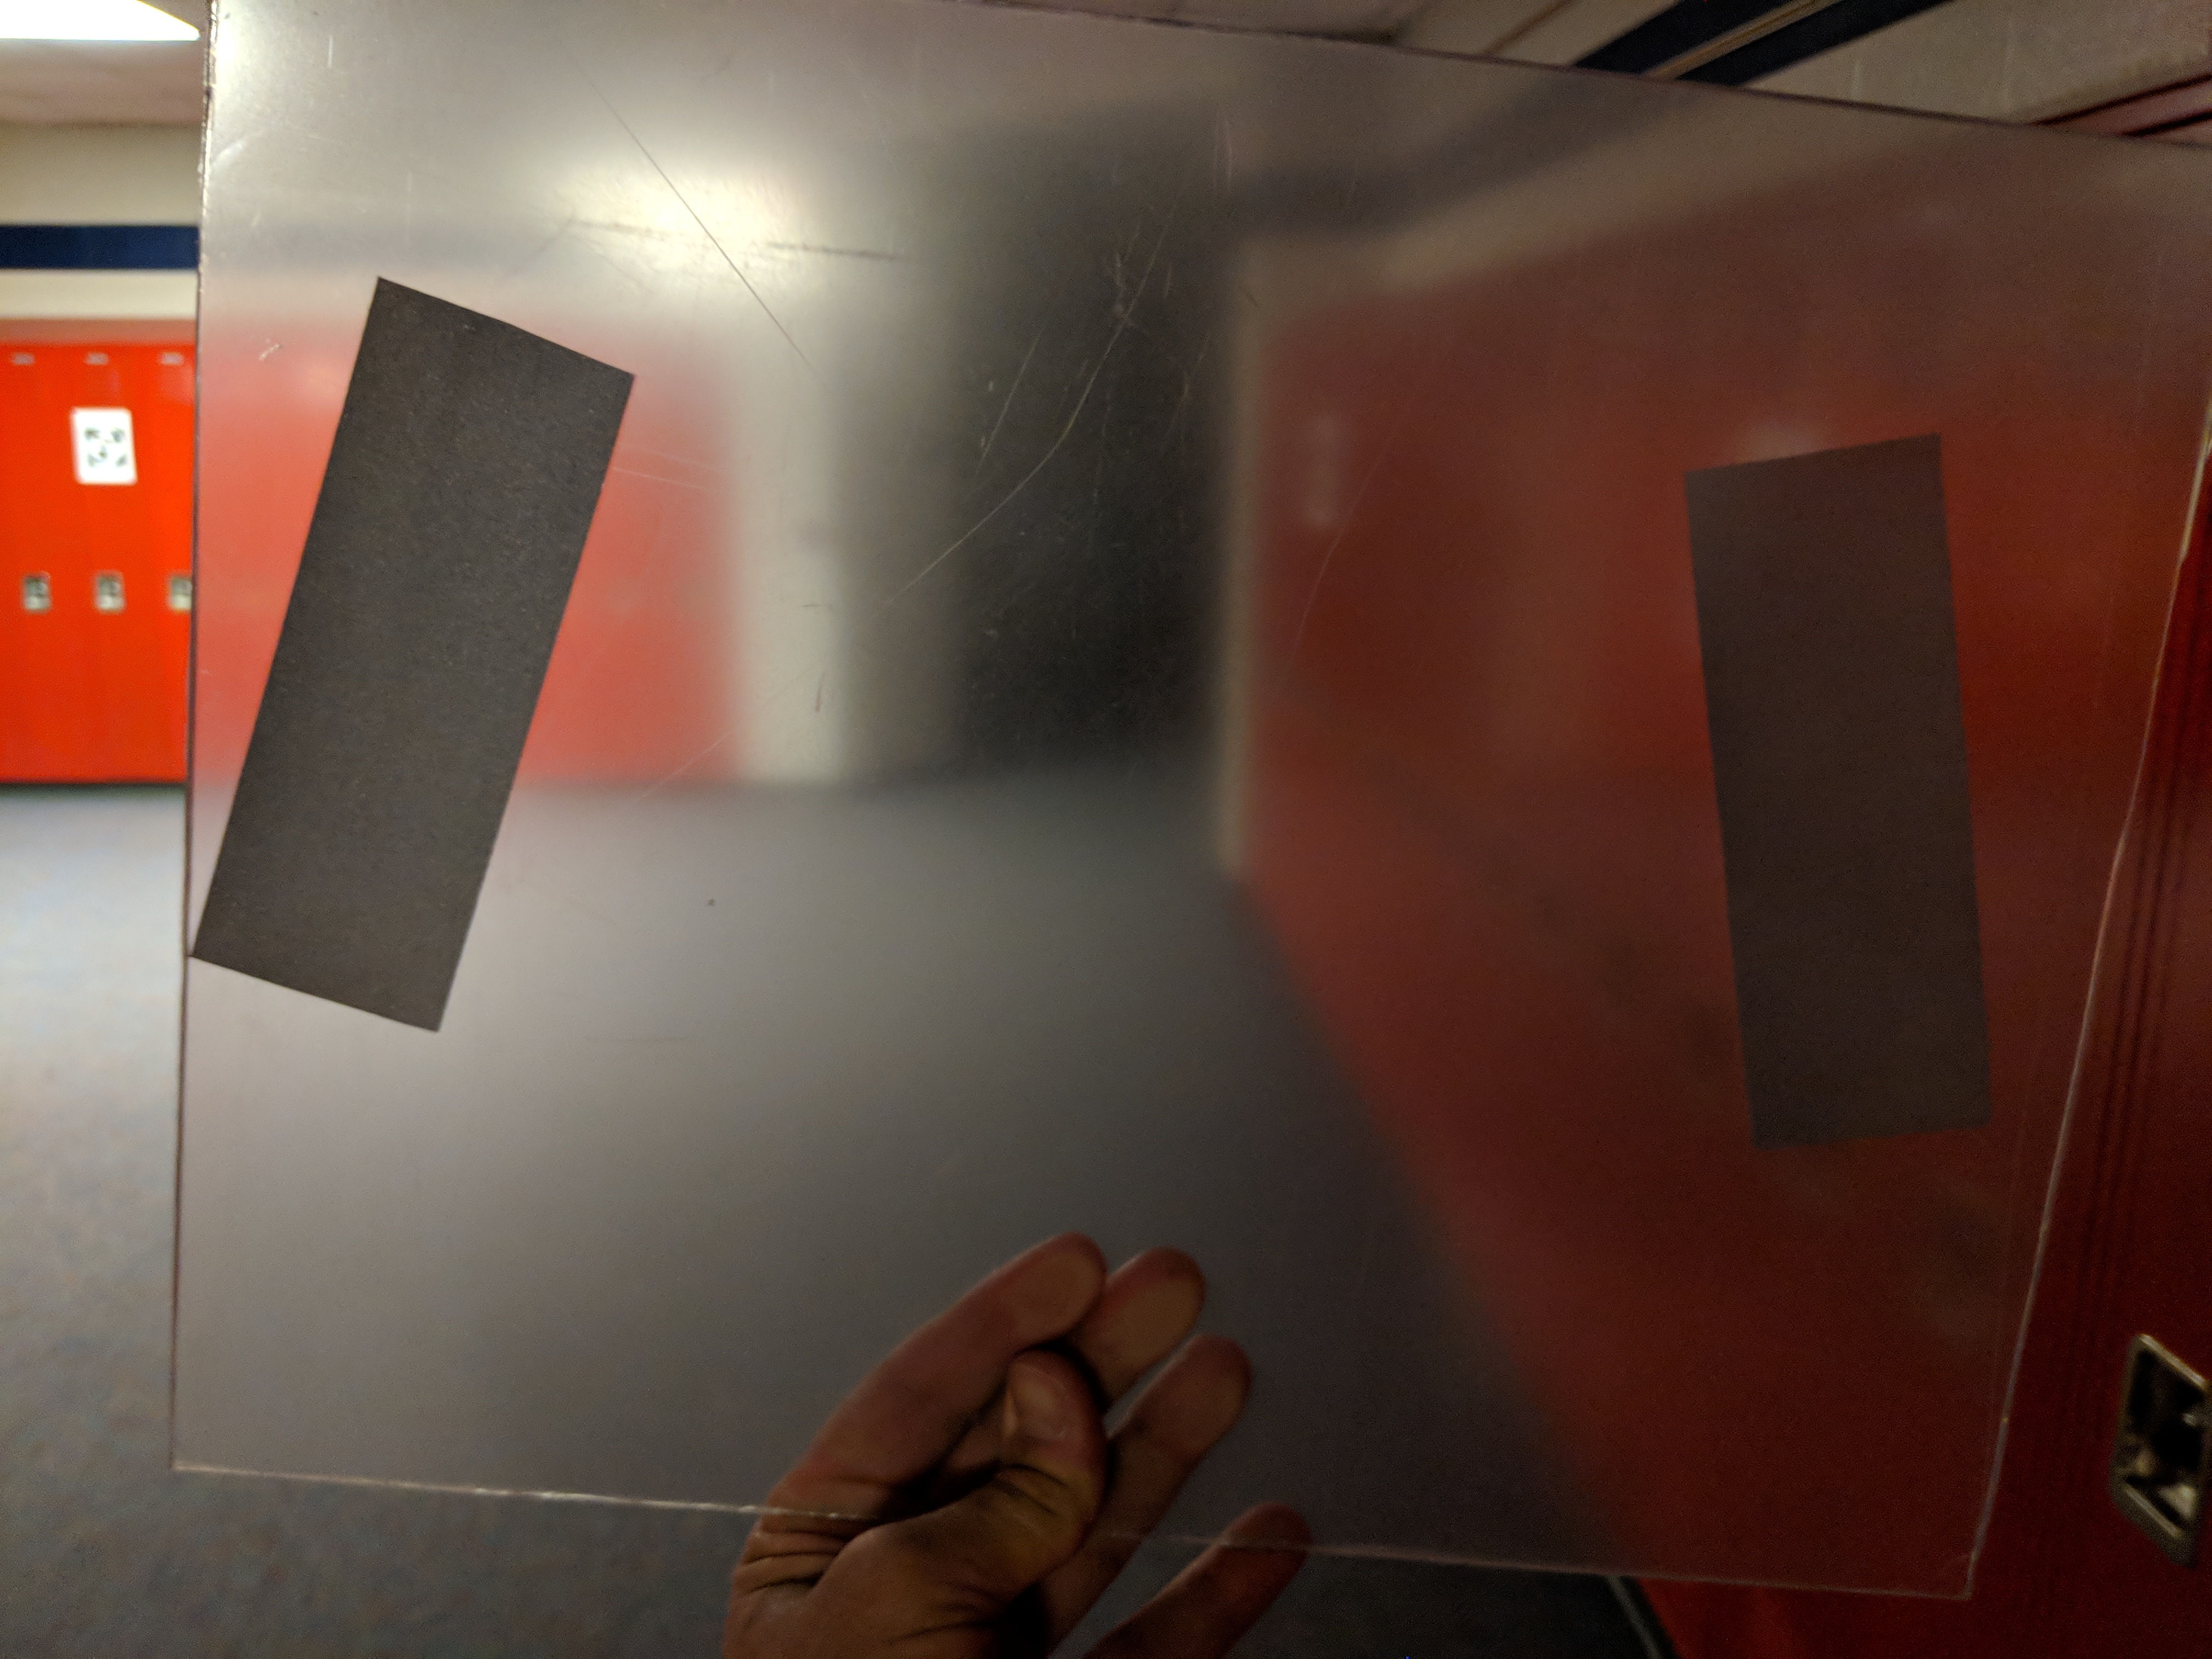vision_target: (172, 263, 2026, 1166)
